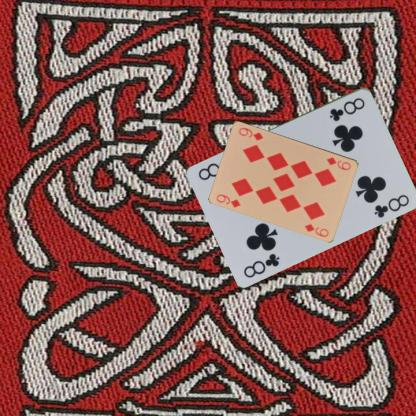8c: (241, 250, 281, 279), (326, 95, 366, 122)
9d: (214, 191, 242, 209), (324, 154, 353, 171)
